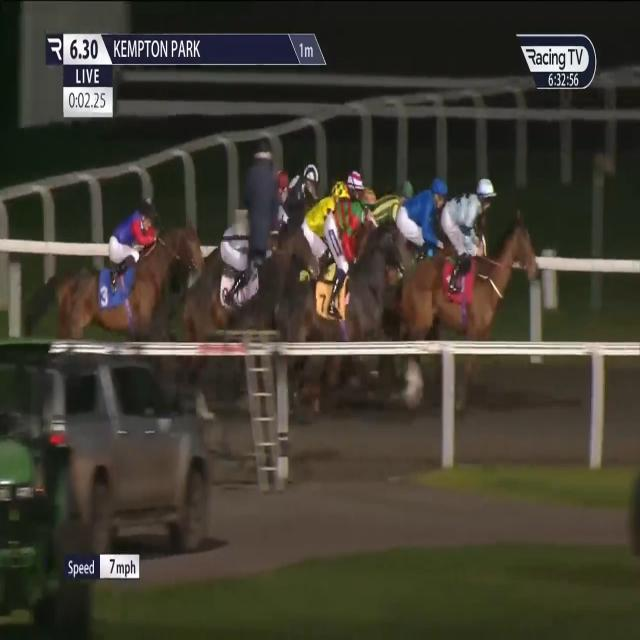horses-racing: (400, 174, 533, 366), (76, 206, 196, 340), (238, 171, 291, 318), (396, 167, 453, 288), (324, 190, 379, 296), (305, 179, 345, 284), (366, 175, 416, 244), (291, 158, 323, 218), (348, 166, 366, 195)
